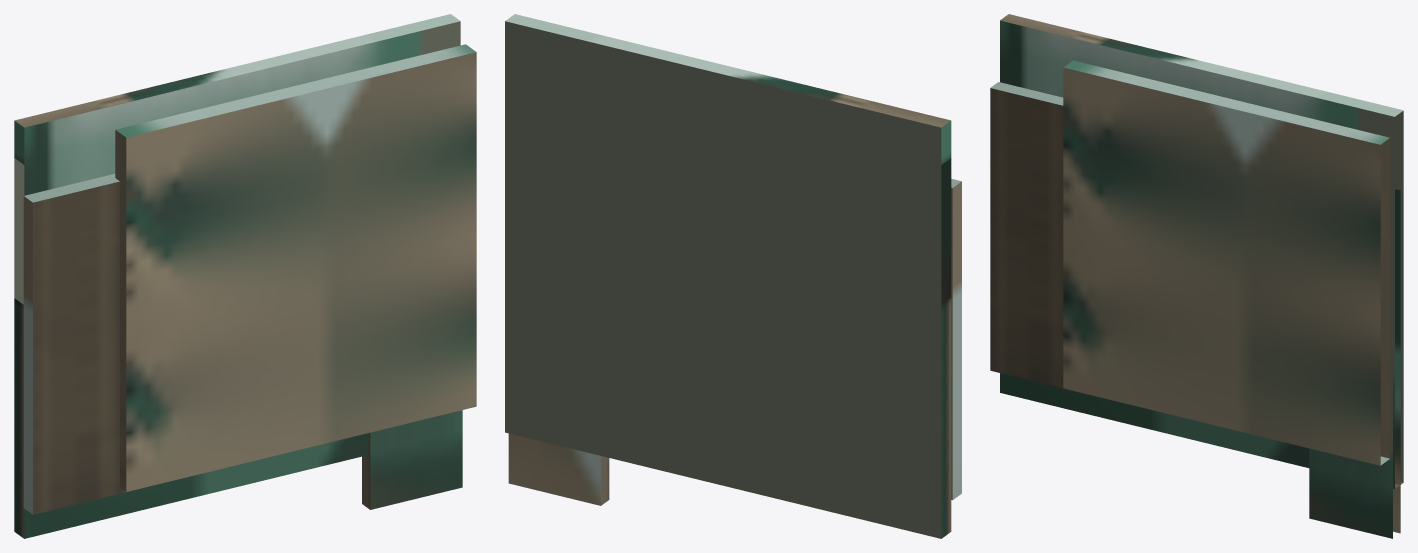
File: section-4.obj
3 views of the same model, side by side, from view 1: azimuth 30°, elevation 25°; view 2: azimuth 150°, elevation 25°; view 3: azimuth 330°, elevation 25° (orthographic). The views are drawn at different scales.
Size of the model in its own units: 0.7568 by 0.7685 by 0.0771.
